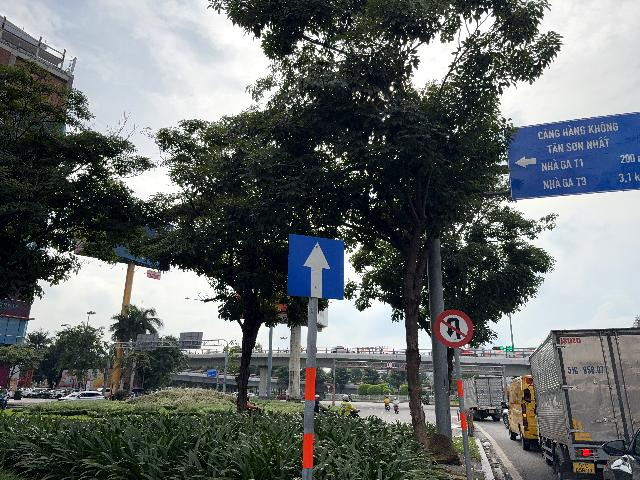cam-quay-dau-xe: (433, 310, 474, 348)
duong-mot-chieu: (287, 233, 345, 300)
